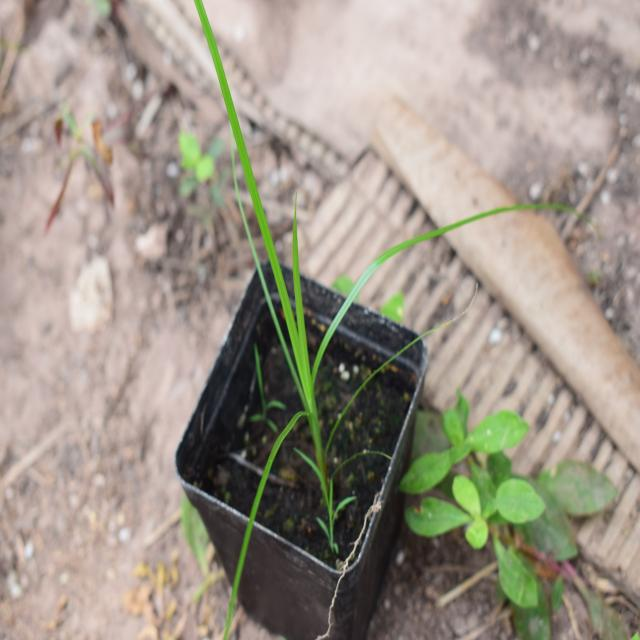sedge: (165, 6, 462, 550)
